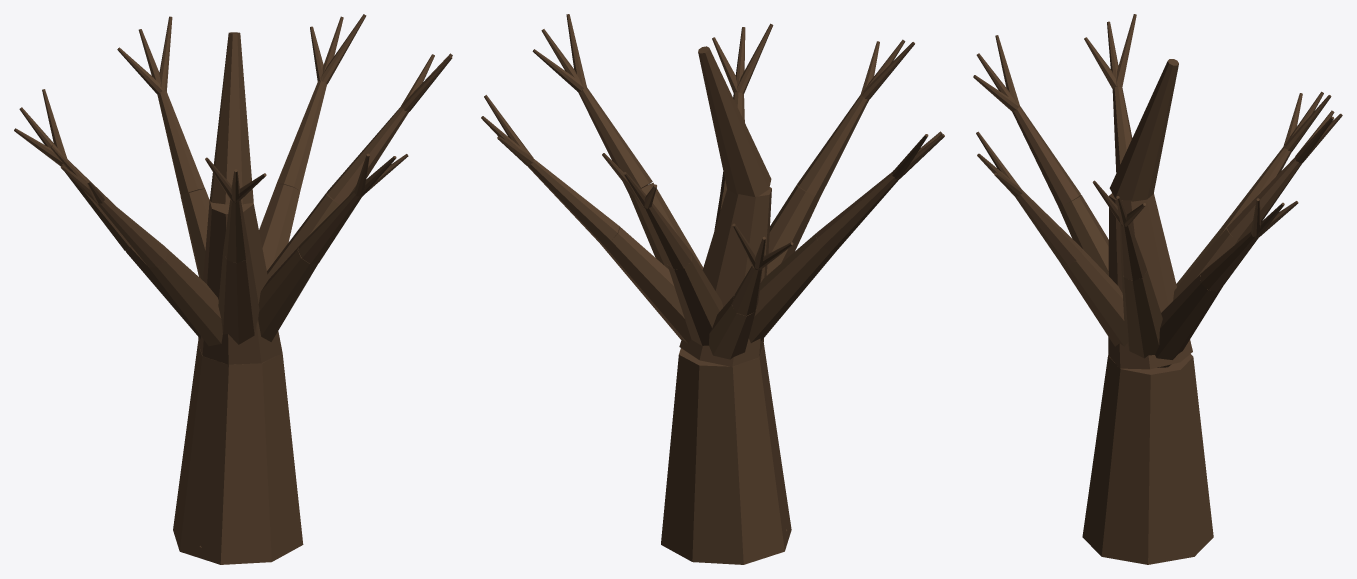
The model's file is apple_mature_winter.glb.
3 renders of one model, left to right at view 1: azimuth 30°, elevation 25°; view 2: azimuth 150°, elevation 25°; view 3: azimuth 270°, elevation 25°, orthographic. The views are drawn at different scales.
Visible parts, largest first — view 1: apple_mature_winter; view 2: apple_mature_winter; view 3: apple_mature_winter.
Part boxes in pixels (<box>): apple_mature_winter: <box>14,14,452,564</box>; apple_mature_winter: <box>481,14,944,564</box>; apple_mature_winter: <box>973,14,1342,564</box>.
Bounding box in the file's own units: 9.5 × 11.32 × 7.88.
